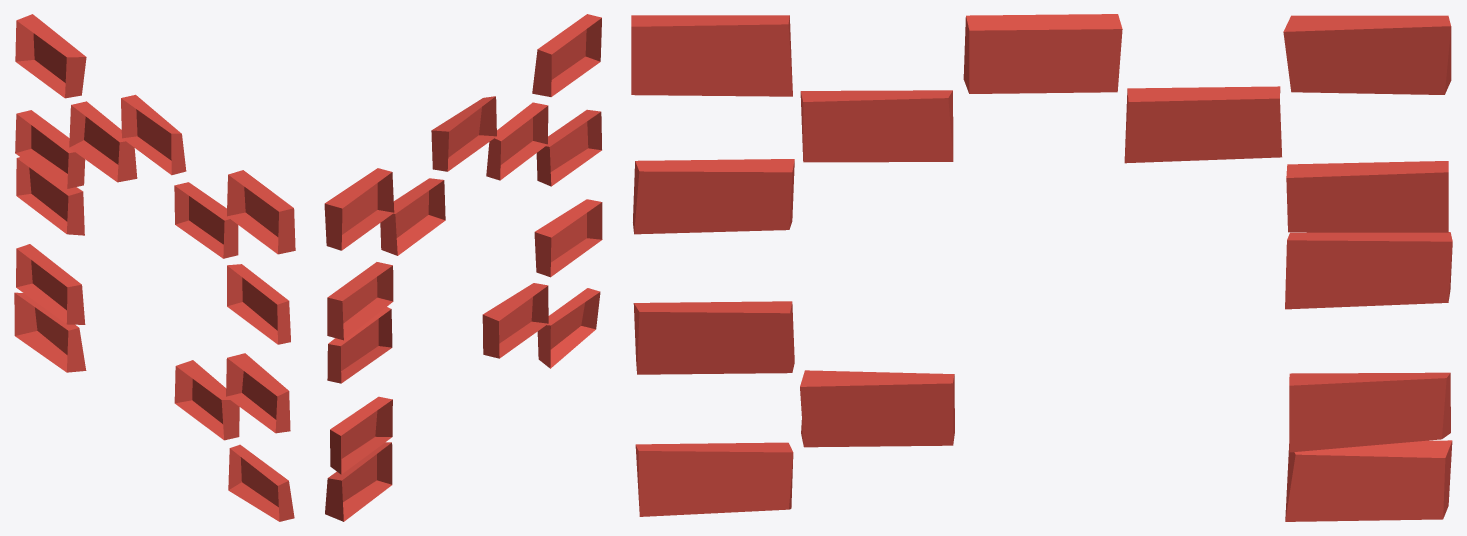
File: Brick Wall 3X3 Door.fbx
3 views of the same model, side by side, from view 1: azimuth 30°, elevation 25°; view 2: azimuth 150°, elevation 25°; view 3: azimuth 270°, elevation 25° (orthographic). The views are drawn at different scales.
Parts seen in each view (by area): view 1: Brick Wall 3X3 Door; view 2: Brick Wall 3X3 Door; view 3: Brick Wall 3X3 Door.
Boxes of the visible parts, x1,y1,x2,y2 form: Brick Wall 3X3 Door: (14,14,295,521); Brick Wall 3X3 Door: (324,14,602,521); Brick Wall 3X3 Door: (631,14,1452,521).
Bounding box in the file's own units: 14.08 × 202 × 303.
